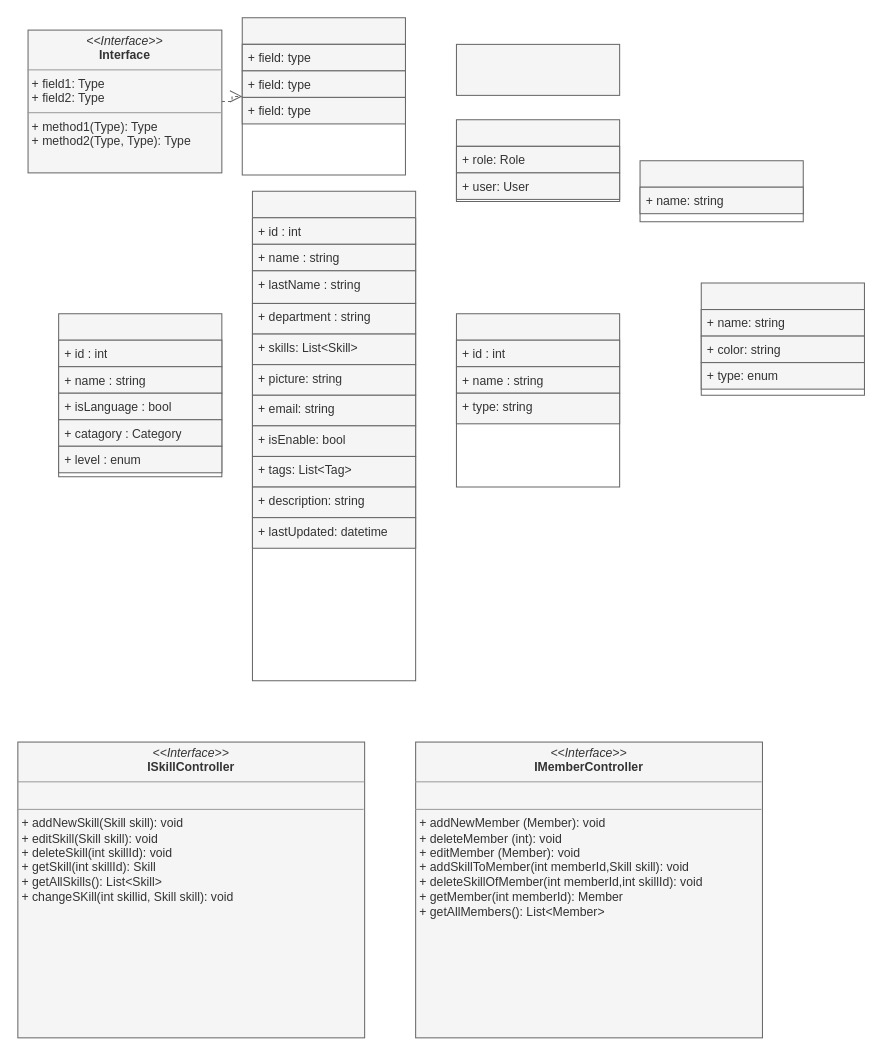
This 882x1056 diagram has some shape labels left out. The shapes that lost their labels are listed below. From the top down, each one's box as (x1, y1, x2, y2) in pixels, then its label:
(455, 43, 620, 95): «interface» Name
(241, 17, 405, 175): Classname
(455, 119, 620, 201): UserManagement
(639, 160, 803, 222): Role
(700, 282, 864, 395): Tag
(58, 313, 222, 477): Skill
(455, 313, 620, 487): Category
(251, 190, 416, 681): Member
